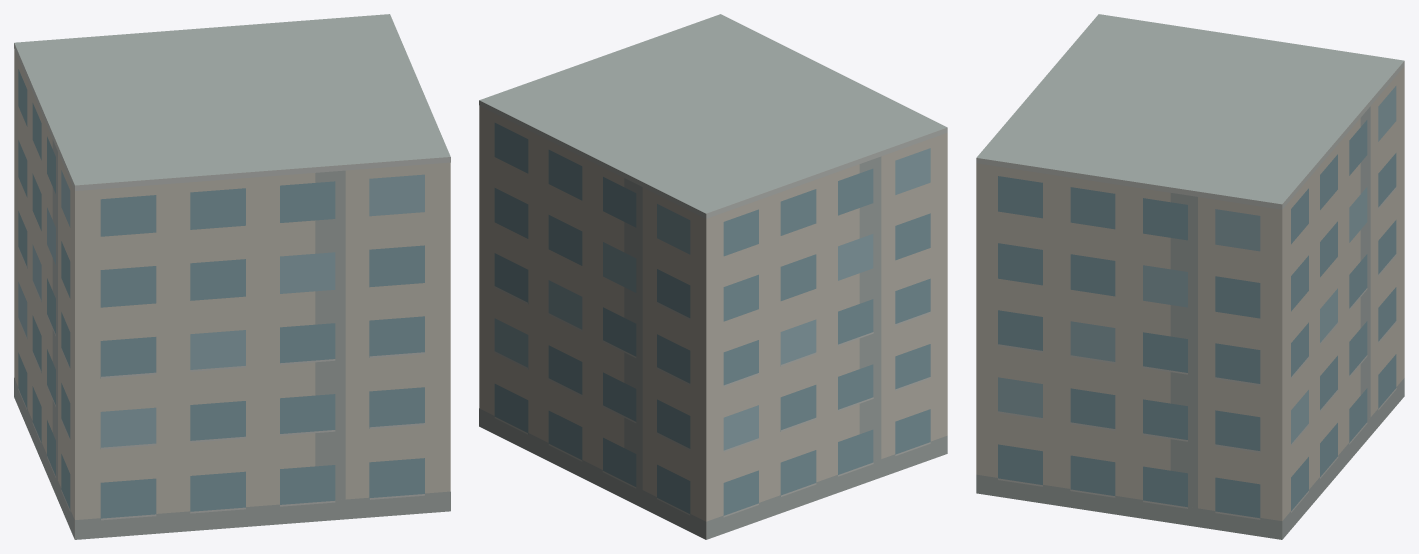
Rendered from residential-77450a85-9e21-43a8-a31d-d306943b6a29.glb.
3 views of the same model, side by side, from view 1: azimuth 30°, elevation 25°; view 2: azimuth 150°, elevation 25°; view 3: azimuth 270°, elevation 25° (orthographic). The views are drawn at different scales.
Parts seen in each view (by area): view 1: residential-77450a85-9e21-43a8-a31d-d306943b6a29.tmp; view 2: residential-77450a85-9e21-43a8-a31d-d306943b6a29.tmp; view 3: residential-77450a85-9e21-43a8-a31d-d306943b6a29.tmp.
Part boxes in pixels (<box>): residential-77450a85-9e21-43a8-a31d-d306943b6a29.tmp: <box>14,14,450,539</box>; residential-77450a85-9e21-43a8-a31d-d306943b6a29.tmp: <box>479,14,947,539</box>; residential-77450a85-9e21-43a8-a31d-d306943b6a29.tmp: <box>976,14,1404,539</box>.
Size of the model in its own units: 18.57 by 15.25 by 17.66.
